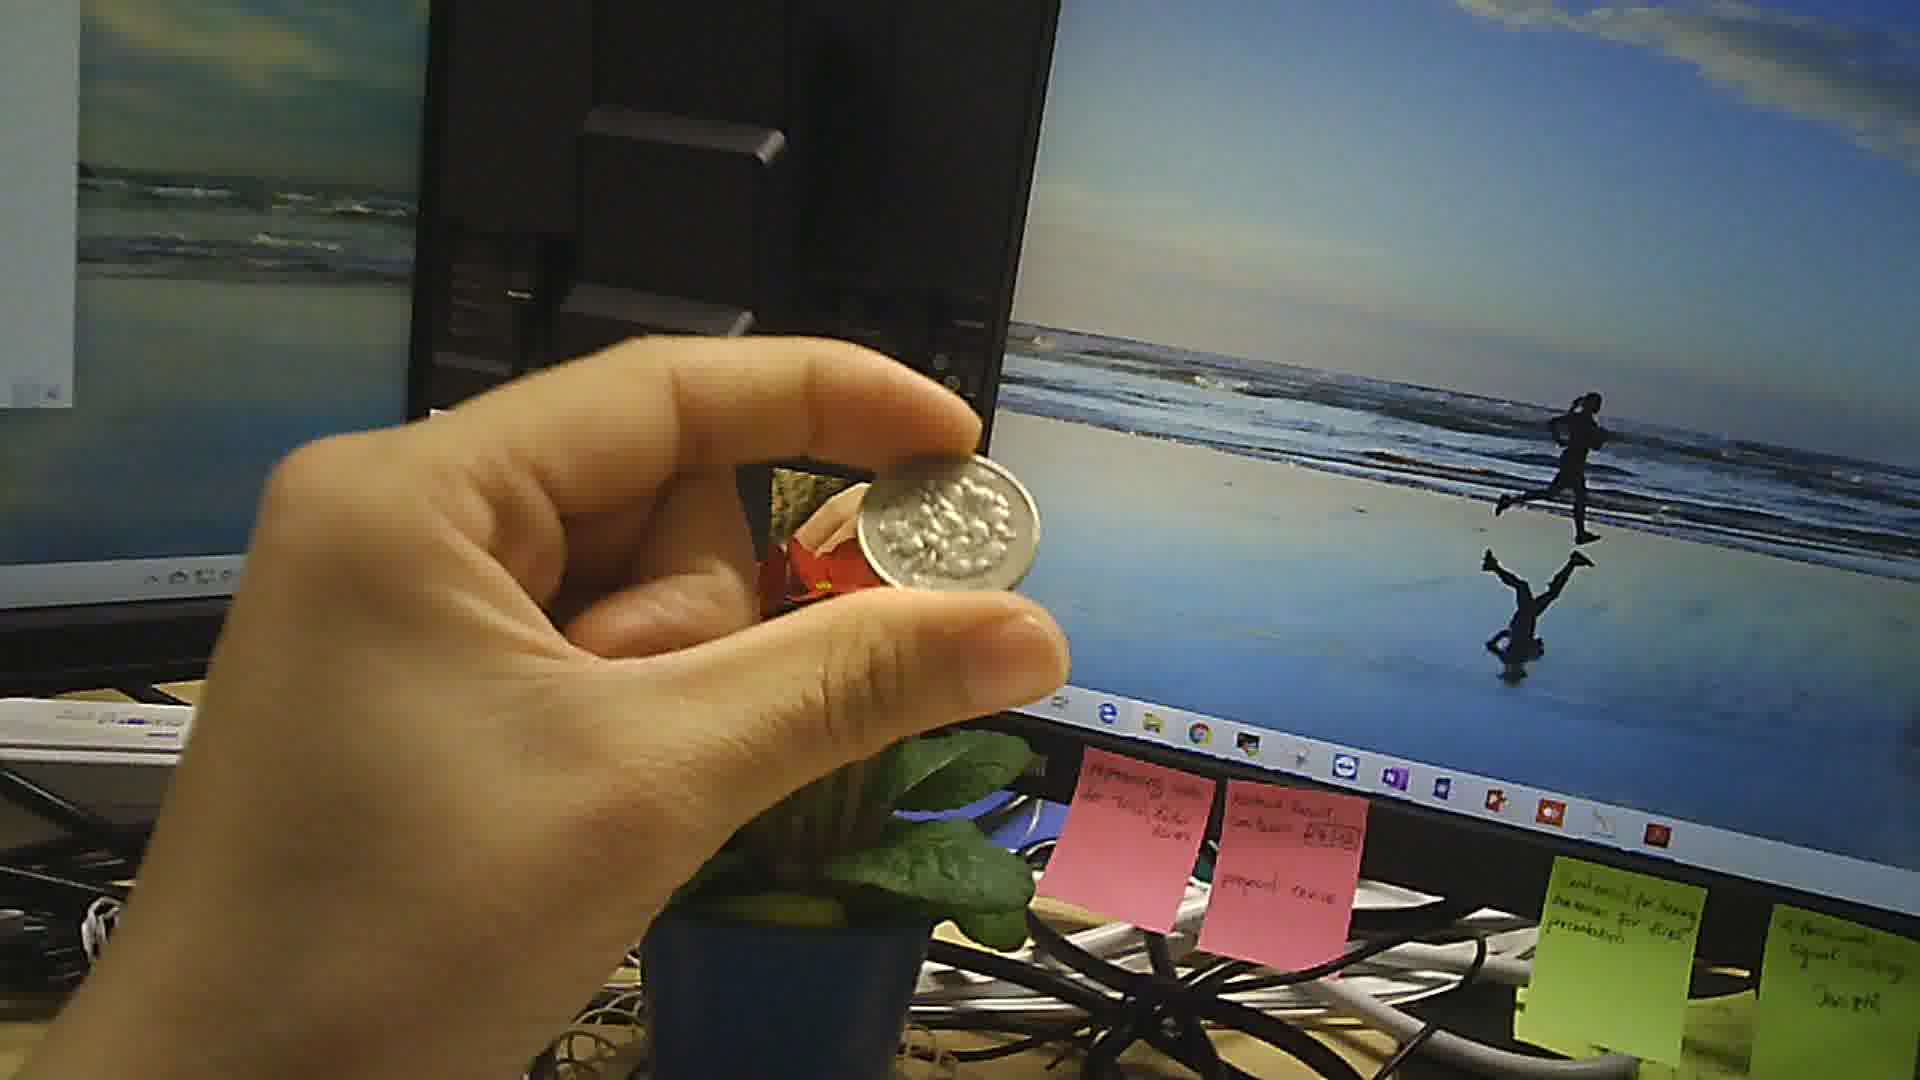100 Yen: (851, 444, 1048, 592)
